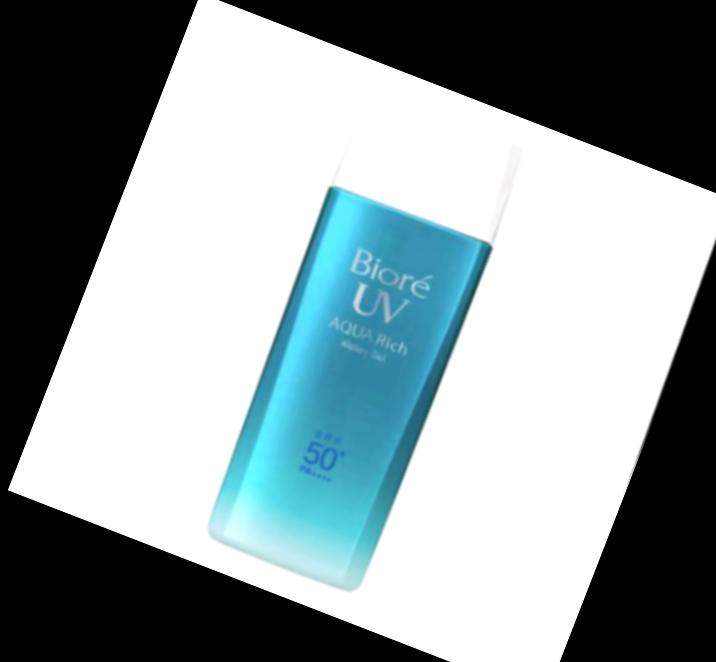cosmetic: (185, 74, 541, 601)
